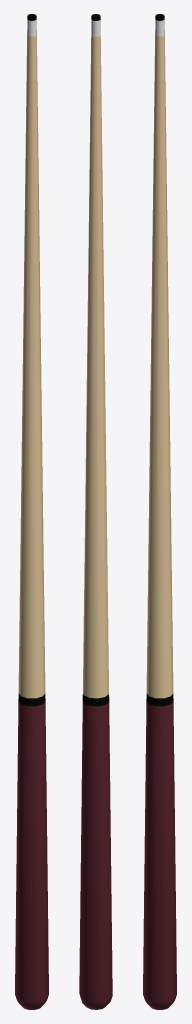
File: 1b85b4d9-bdac-49e9-8cba-93776934255b.glb
The picture shows the model from 3 angles, left to right: view 1: azimuth 90°, elevation 25°; view 2: azimuth 150°, elevation 25°; view 3: azimuth 270°, elevation 25°; orthographic projection.
Visible parts, largest first — view 1: BilliardsCueStick; view 2: BilliardsCueStick; view 3: BilliardsCueStick.
Part boxes in pixels (x1,y1,x2,y2): BilliardsCueStick: (15,14,48,1009); BilliardsCueStick: (79,14,112,1009); BilliardsCueStick: (143,14,176,1009).
Bounding box in the file's own units: 0.0416 × 1.4 × 0.0437.
Materials: 1 (1 with a texture image).
